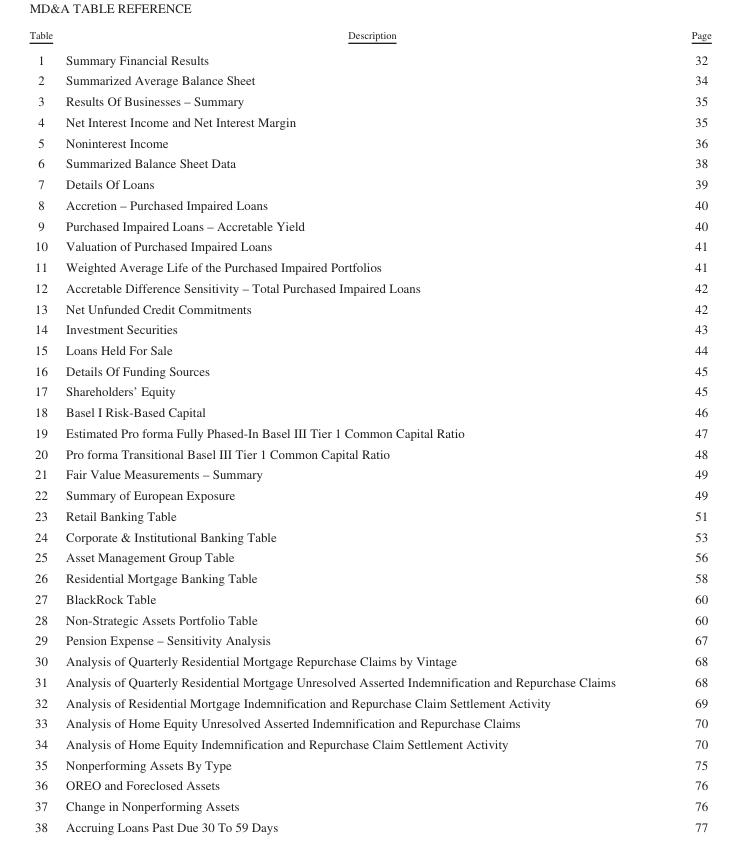table: (28, 28, 710, 833)
table column: (58, 28, 652, 833), (652, 28, 710, 833), (28, 28, 58, 833)
table column header: (28, 28, 710, 46)
table row: (28, 46, 710, 69), (28, 69, 710, 90), (28, 90, 710, 111), (28, 131, 710, 152), (28, 152, 710, 173), (28, 173, 710, 194), (28, 214, 710, 235), (28, 235, 710, 256), (28, 256, 710, 277), (28, 297, 710, 318), (28, 318, 710, 339), (28, 359, 710, 380), (28, 380, 710, 401), (28, 401, 710, 422), (28, 442, 710, 463), (28, 463, 710, 484), (28, 484, 710, 505), (28, 525, 710, 546), (28, 546, 710, 567), (28, 567, 710, 588), (28, 608, 710, 629), (28, 629, 710, 650), (28, 650, 710, 671), (28, 691, 710, 712), (28, 712, 710, 733), (28, 753, 710, 774), (28, 774, 710, 795), (28, 795, 710, 816), (28, 111, 710, 131), (28, 194, 710, 214), (28, 277, 710, 297), (28, 339, 710, 359), (28, 422, 710, 442), (28, 505, 710, 525), (28, 588, 710, 608), (28, 671, 710, 691), (28, 733, 710, 753), (28, 28, 710, 46), (28, 816, 710, 833)
